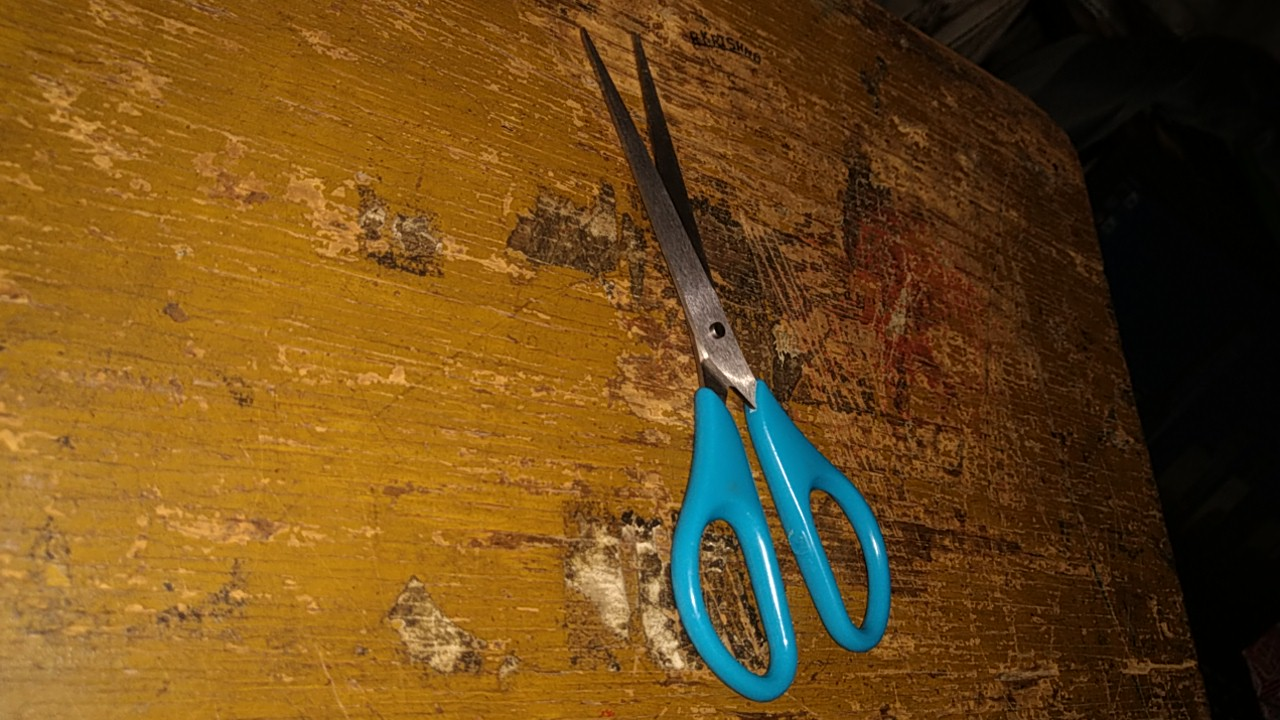scissor: (563, 17, 922, 714)
